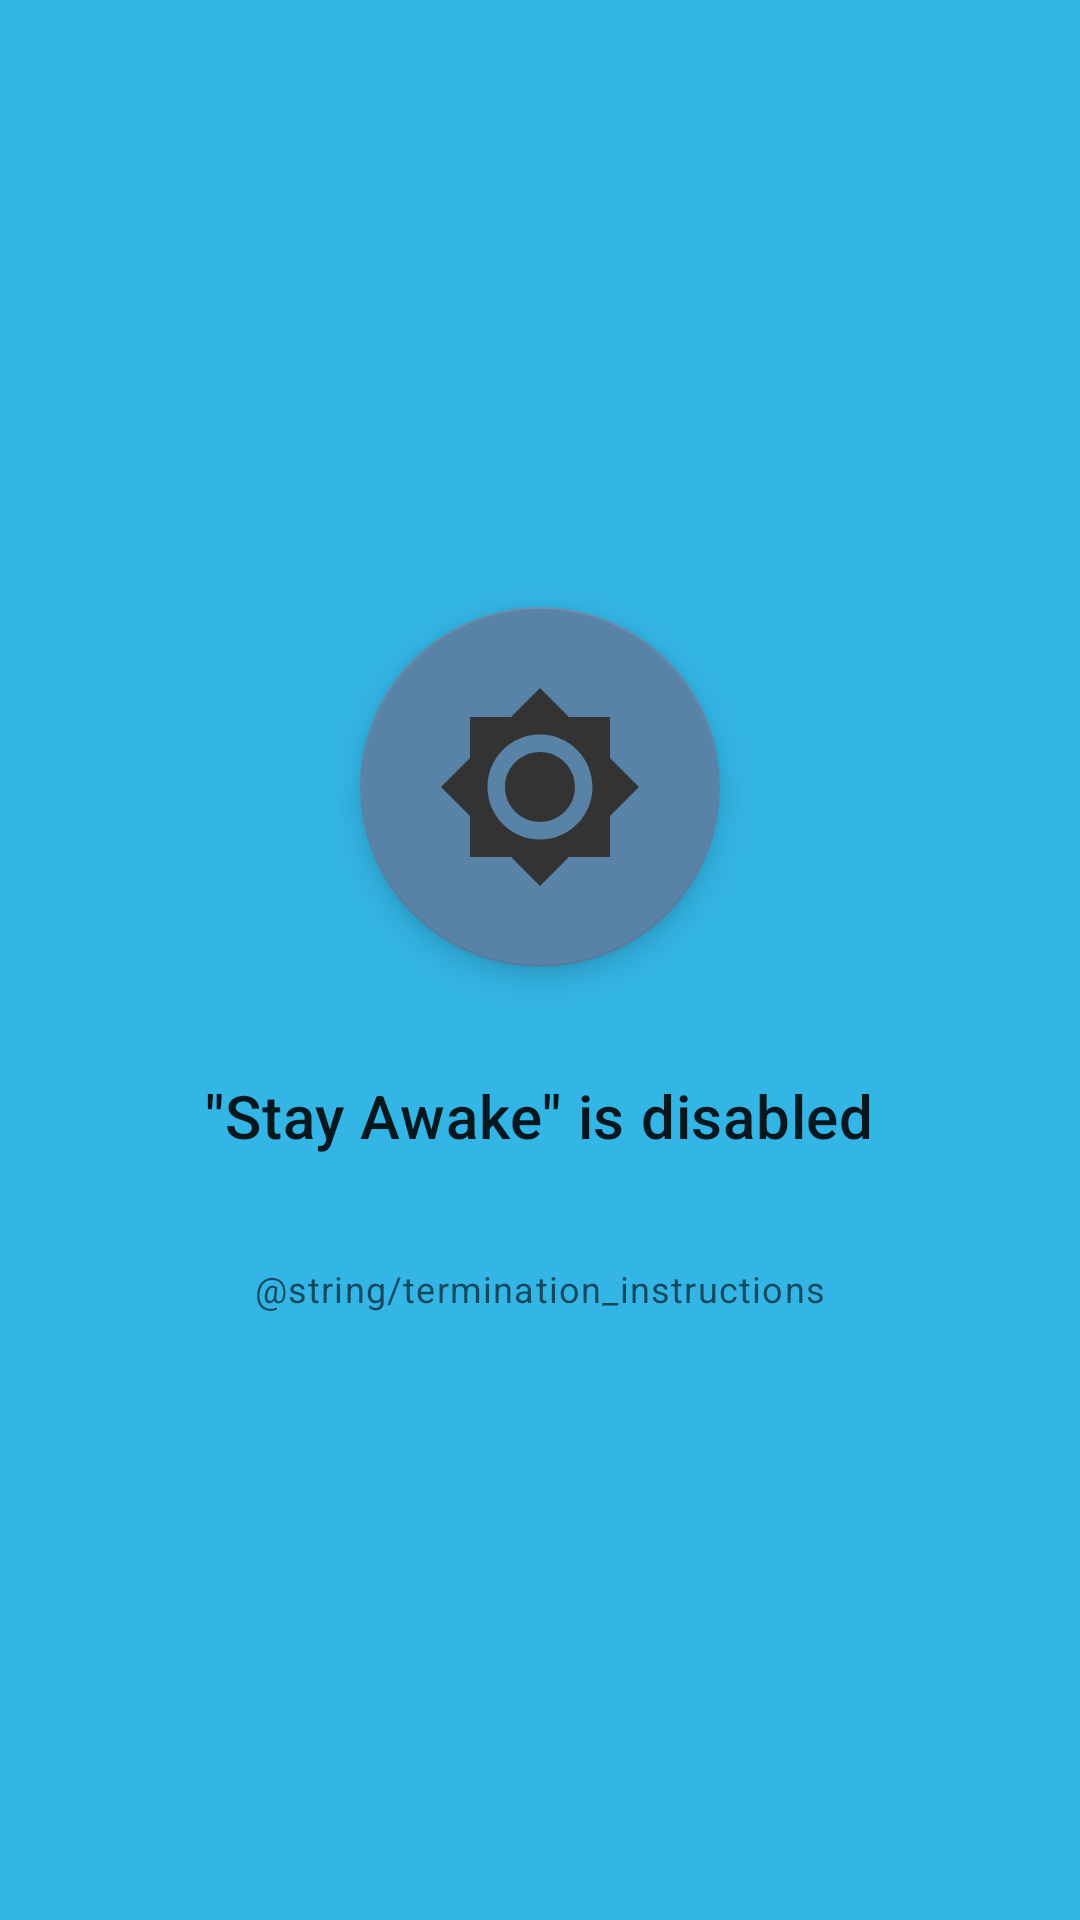

Named icons in this screenshot (1080 x 1920) and their centers, (x=x, y=y):
always on toggle off: (x=540, y=787)
